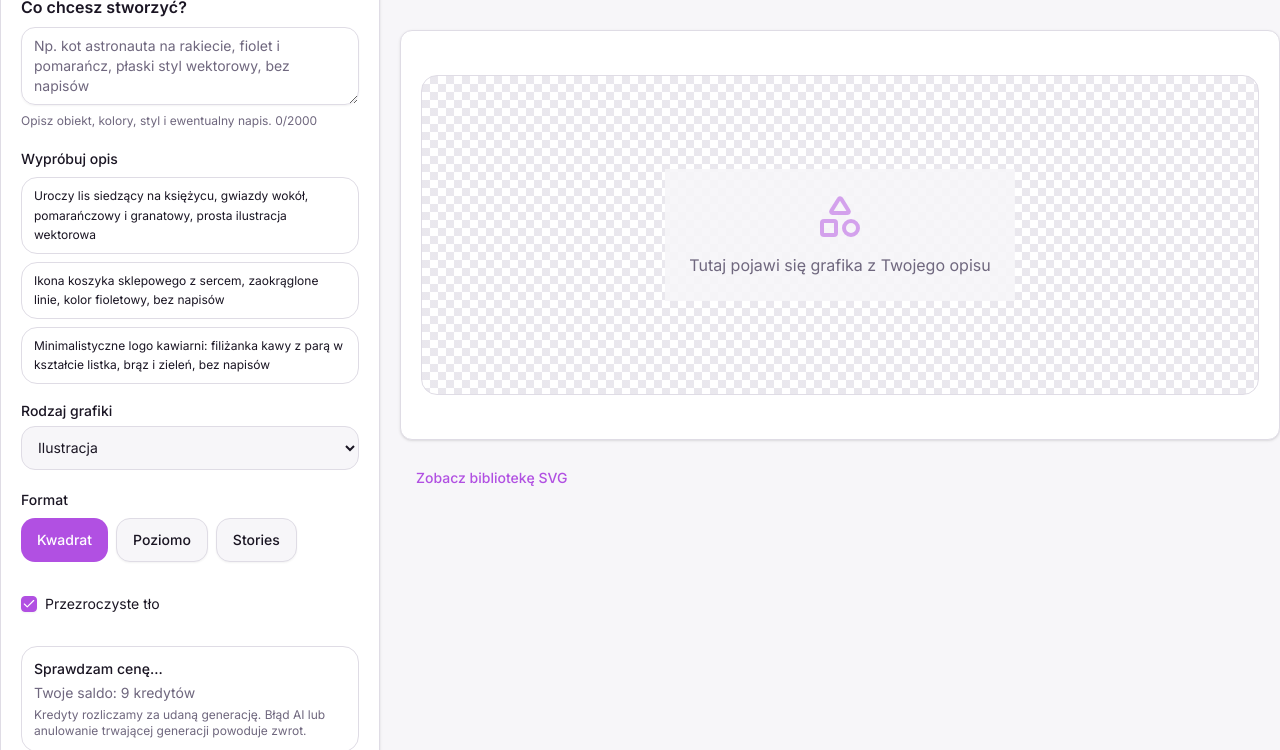
Scenario: shows the price and blocks submission when the balance is insufficient
Replace the text in the text box labelled "Co chcesz stworzyć?" with "Ikona koszyka z sercem". click: (190, 66)
box: [21,27,359,105]
(page scrolled)
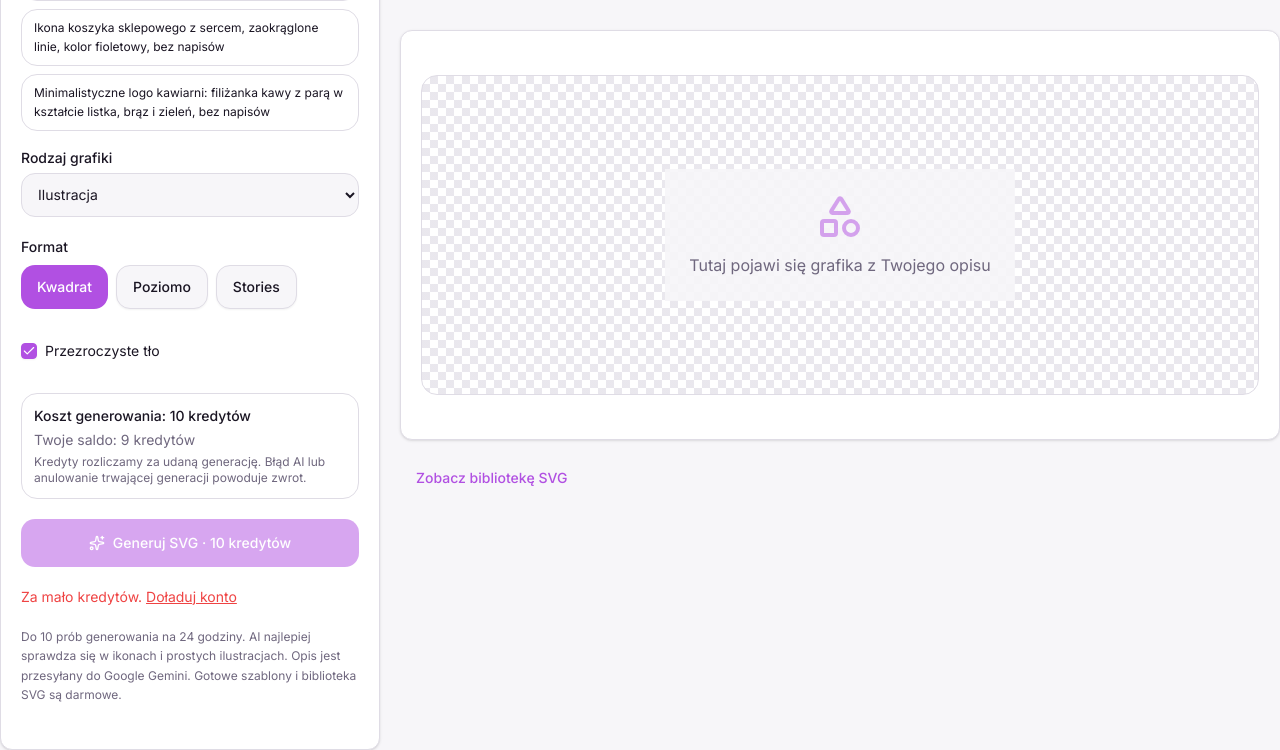
Expected: the button "Generuj SVG · 10 kredytów" is disabled, [21,518,359,566]
Expected: the text "Koszt generowania: 10 kredytów" is shown, [34,406,251,424]
